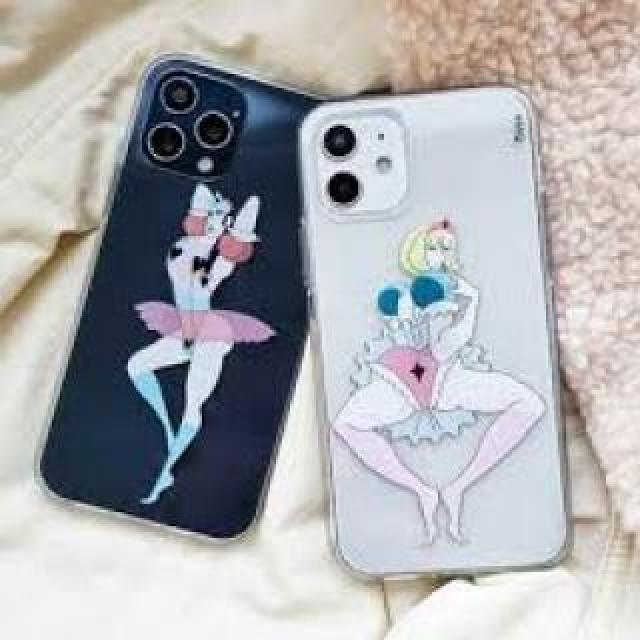smart phone: (307, 95, 578, 583), (36, 32, 296, 540)
